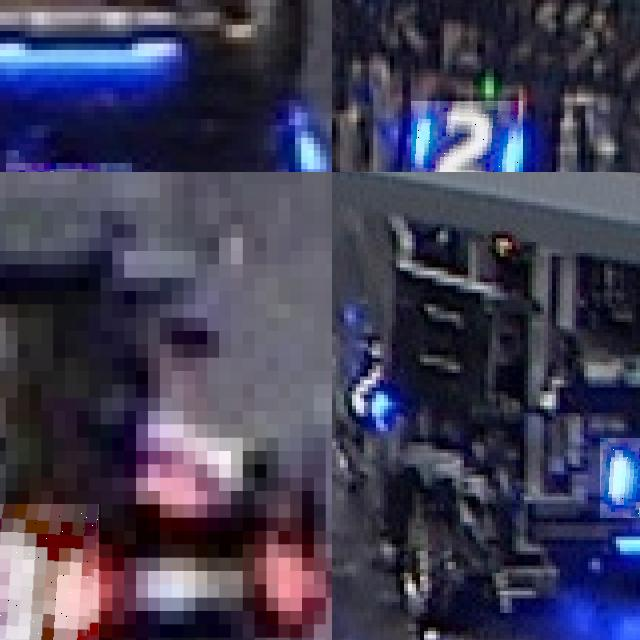B2: (411, 101, 523, 172), (332, 336, 388, 434), (600, 438, 640, 518)
R3: (0, 504, 100, 640)
